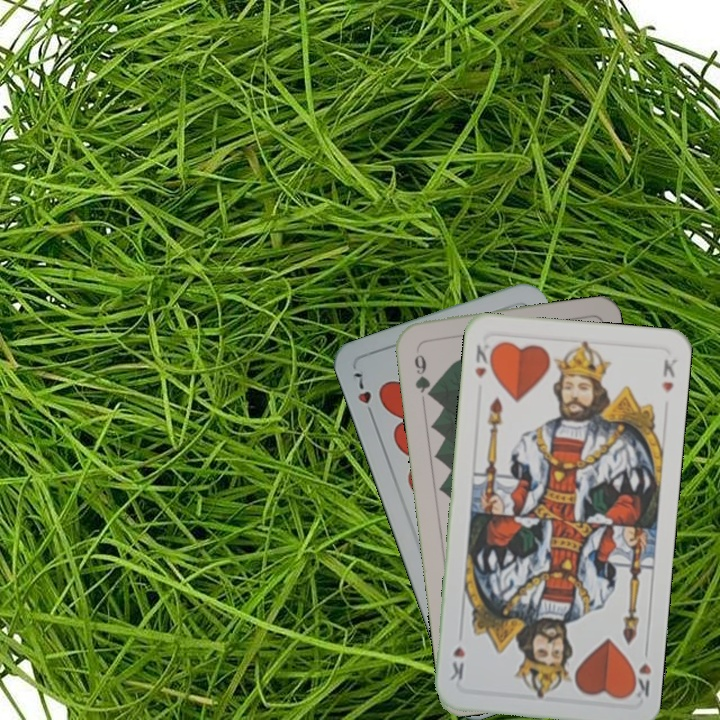G9: (410, 343, 435, 401)
H7: (349, 368, 378, 423)
HK: (626, 642, 654, 700), (470, 340, 497, 381)
